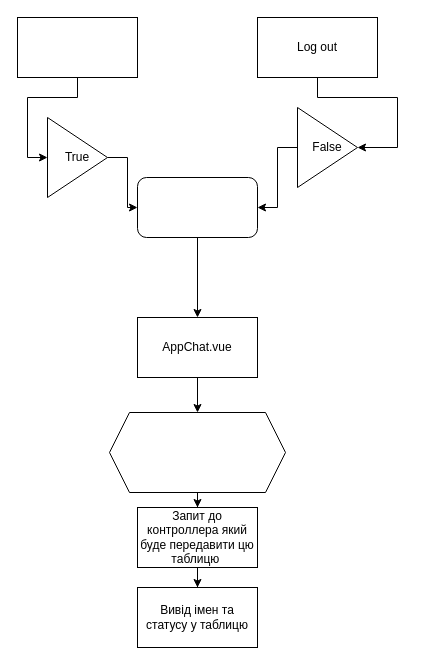
This 423x665 diagram has some shape labels left out. The centre of each missing label's shape, as x and y in pixels:
"setUserStatus" goes at pixel 197 207.
"Sign IN" goes at pixel 77 47.
"Робимо Right Join від User до UserStatus , та витягуємо все" goes at pixel 197 452.
